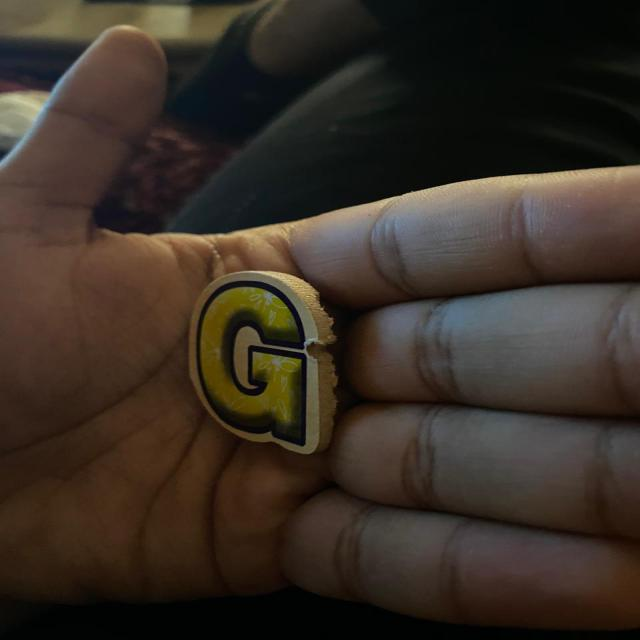G: (189, 271, 336, 453)
